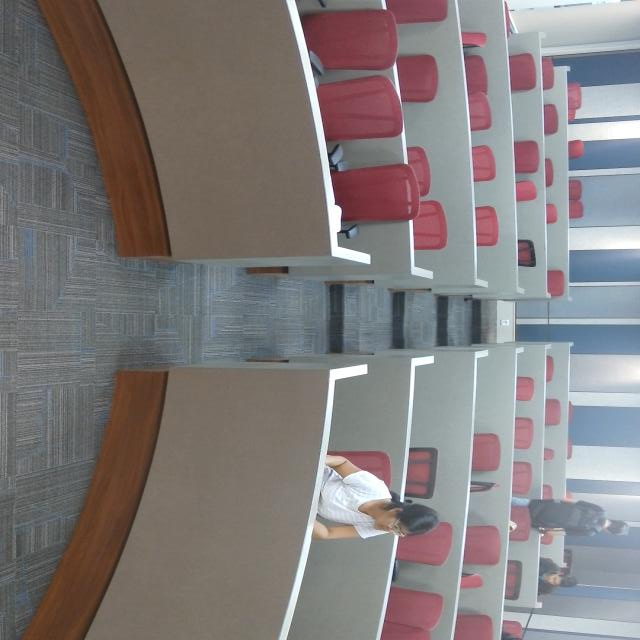cheating: (430, 193, 555, 366)
non-cheating: (557, 37, 599, 122)
